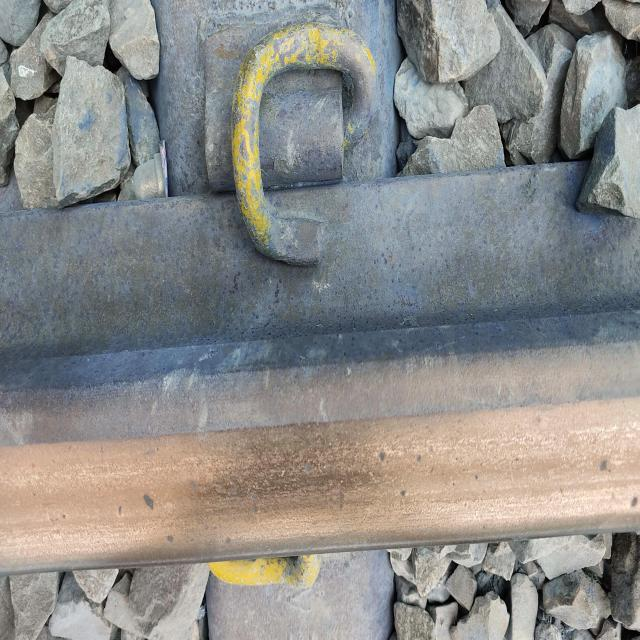Good Fasteners: (152, 0, 399, 265)
